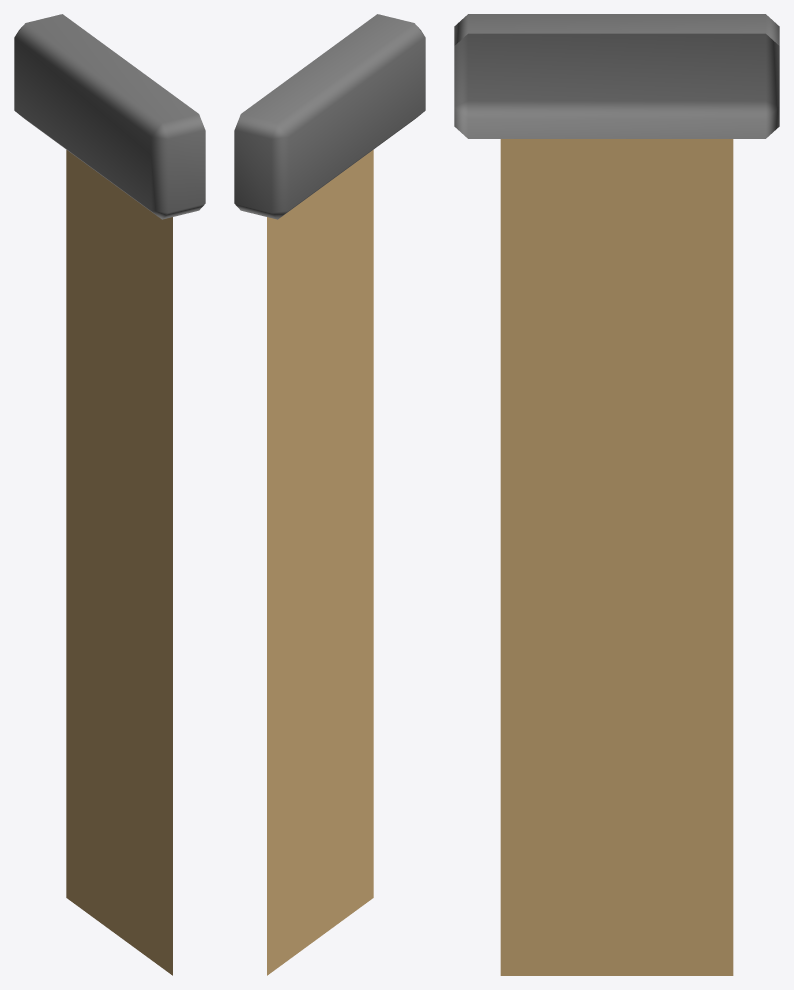
The model's file is SM_WallEndB_4_LOD0.fbx.
The picture shows the model from 3 angles, left to right: view 1: azimuth 30°, elevation 25°; view 2: azimuth 150°, elevation 25°; view 3: azimuth 270°, elevation 25°; orthographic projection. The views are drawn at different scales.
Visible parts, largest first — view 1: SM_WallEndB_4_LOD0; view 2: SM_WallEndB_4_LOD0; view 3: SM_WallEndB_4_LOD0.
Part boxes in pixels (x1,y1,x2,y2): SM_WallEndB_4_LOD0: (14, 14, 205, 975); SM_WallEndB_4_LOD0: (234, 14, 425, 975); SM_WallEndB_4_LOD0: (454, 14, 779, 975).
Bounding box in the file's own units: 0.26 × 4.5 × 1.4.
